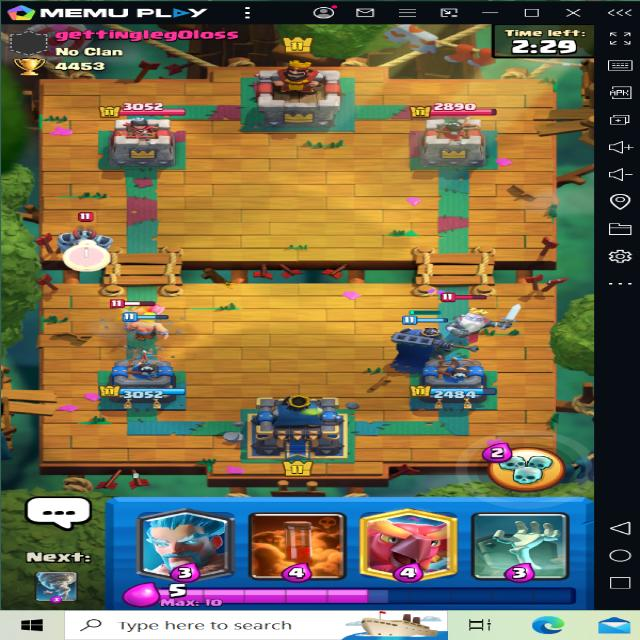Megaminion: (55, 208, 117, 264)
Royalghost: (432, 287, 517, 349)
Valk: (110, 296, 171, 338)
